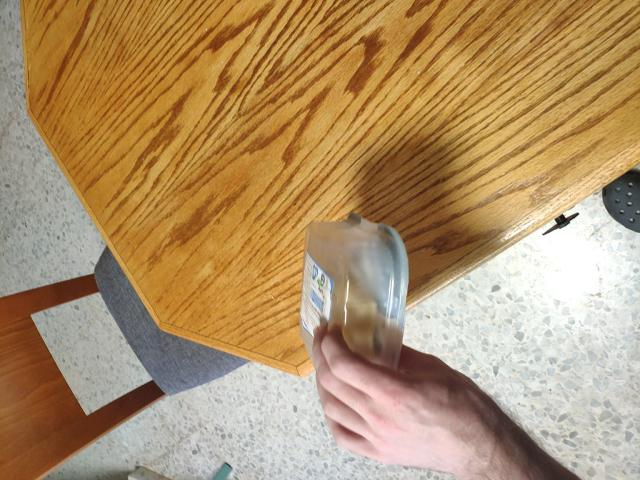cheese: (271, 202, 447, 399)
